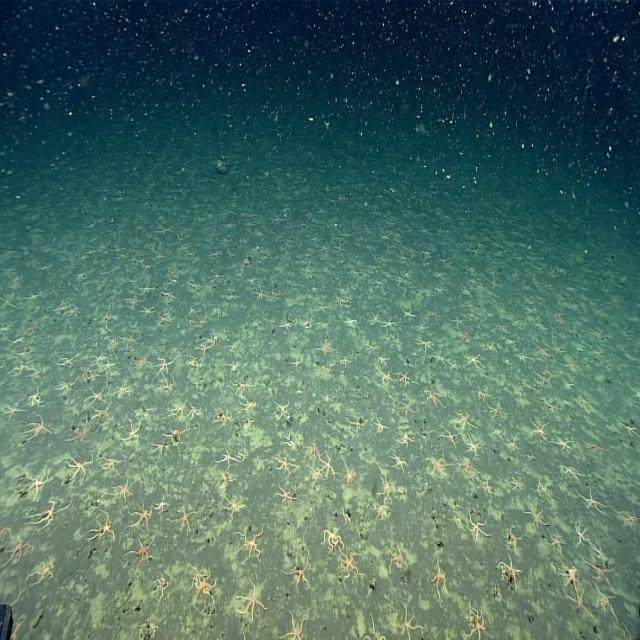brittle-stars: (128, 525, 160, 574), (462, 504, 496, 548), (186, 565, 222, 600), (288, 548, 318, 589), (237, 580, 269, 618), (391, 609, 429, 640), (51, 368, 77, 413), (22, 556, 56, 589), (461, 600, 488, 640), (37, 488, 59, 536), (236, 524, 266, 558), (90, 509, 119, 544), (222, 482, 245, 525), (282, 610, 314, 640), (26, 412, 49, 453), (148, 568, 174, 604), (213, 446, 243, 476), (591, 551, 614, 589), (338, 547, 362, 583), (564, 562, 582, 610), (26, 465, 48, 504), (176, 500, 197, 540), (526, 498, 548, 536), (110, 480, 142, 506), (75, 445, 98, 481), (72, 408, 92, 449), (200, 324, 224, 358), (5, 535, 32, 565), (426, 560, 449, 595), (527, 418, 555, 446), (0, 279, 19, 320), (26, 378, 45, 418), (321, 516, 342, 552), (622, 504, 640, 546), (422, 382, 446, 413), (559, 458, 581, 491), (390, 542, 414, 572), (99, 447, 121, 479), (129, 504, 155, 531), (152, 434, 175, 464), (272, 482, 294, 513), (370, 498, 392, 528), (388, 448, 410, 478), (500, 558, 521, 588), (3, 394, 23, 425), (484, 391, 506, 419), (94, 402, 115, 431), (156, 373, 177, 402), (124, 424, 146, 451), (426, 454, 448, 481), (554, 430, 574, 459), (304, 438, 327, 463), (595, 587, 618, 612), (209, 408, 231, 434), (581, 488, 600, 518), (239, 392, 262, 416), (100, 348, 116, 382), (276, 448, 292, 482), (275, 399, 295, 426), (575, 520, 590, 556), (62, 340, 76, 378), (80, 388, 107, 407), (587, 443, 606, 470), (121, 326, 138, 356), (320, 456, 337, 486), (339, 456, 356, 486), (379, 474, 397, 502), (620, 418, 640, 443), (394, 272, 414, 297), (465, 429, 480, 462), (184, 399, 202, 426), (232, 378, 256, 398), (504, 515, 519, 547), (461, 454, 477, 484), (395, 303, 419, 323), (81, 356, 98, 384), (160, 286, 179, 311), (14, 354, 32, 379), (535, 360, 549, 392), (440, 422, 457, 448), (401, 390, 414, 424), (508, 469, 524, 496), (463, 350, 481, 374), (169, 425, 187, 449), (307, 465, 321, 495), (457, 404, 471, 434), (277, 314, 292, 342), (578, 388, 592, 418), (563, 355, 581, 378), (482, 336, 499, 360), (154, 492, 172, 514), (449, 312, 467, 334), (118, 378, 136, 399), (347, 413, 364, 435), (189, 351, 207, 371), (136, 301, 154, 321), (344, 315, 362, 335), (153, 354, 175, 370), (483, 471, 495, 500), (172, 396, 185, 422), (379, 369, 394, 391), (341, 501, 351, 530), (138, 278, 154, 296), (419, 336, 435, 354), (158, 222, 174, 240), (518, 346, 532, 366), (364, 340, 380, 357), (95, 320, 110, 338), (337, 352, 353, 368), (254, 289, 269, 306), (400, 426, 412, 446), (299, 318, 314, 334), (382, 316, 398, 331), (534, 344, 546, 364), (320, 339, 334, 356), (131, 358, 150, 370), (552, 533, 563, 553), (369, 312, 381, 329), (506, 438, 515, 460), (374, 417, 384, 436), (190, 281, 201, 298), (209, 251, 226, 262), (401, 370, 411, 386), (170, 265, 183, 277), (152, 252, 168, 261), (210, 271, 220, 285)
